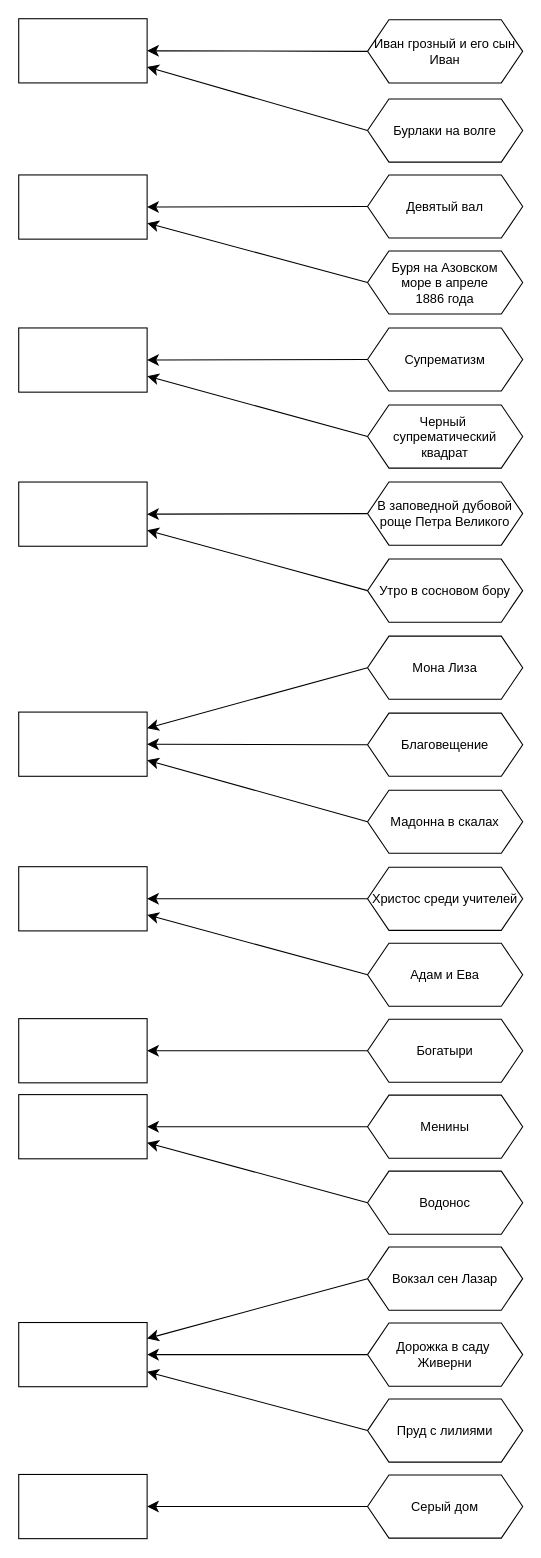
The diagram is 541 pixels wide and 1558 high, and some of its shapes have lost their labels. The box of each missing label's shape, as (x1, y1, x2, y2) in pixels:
Айвазовский Иван Константинович: (18, 174, 147, 239)
Альбрехт Дюрер: (18, 866, 147, 931)
Васнецов Виктор Михайлович: (18, 1018, 147, 1083)
Диего Веласкес: (18, 1094, 147, 1159)
Клод Моне: (18, 1321, 147, 1387)
Леонардо Да Винчи: (18, 711, 147, 776)
Малевич Казимир Северинович: (18, 327, 147, 392)
Репин Илья Ефимович: (18, 18, 147, 83)
Шагал Марк Захарович: (18, 1473, 147, 1539)
Шишкин Иван Иванович: (18, 481, 147, 546)
